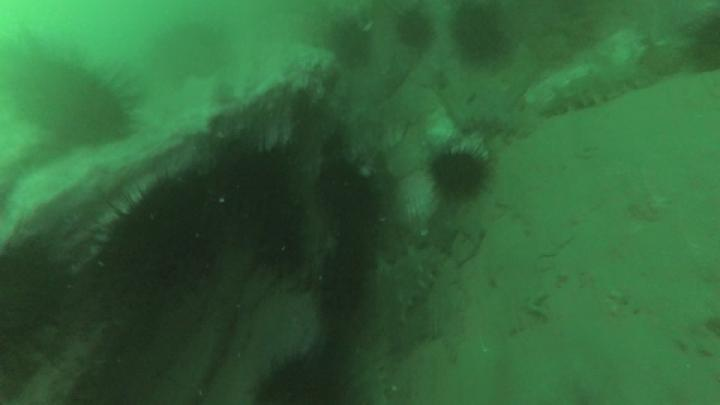echinus: (114, 193, 217, 304), (22, 63, 133, 144), (1, 250, 64, 350), (260, 358, 355, 405), (320, 253, 371, 324), (453, 8, 510, 66), (255, 205, 305, 271), (233, 148, 290, 202), (327, 20, 376, 72), (433, 152, 486, 196), (321, 163, 367, 210), (398, 14, 431, 47)
holothurian: (545, 69, 650, 112), (390, 244, 446, 319), (453, 100, 533, 140)
